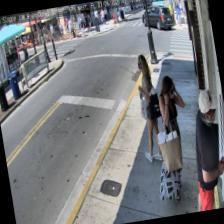person: (140, 74, 198, 202), (179, 87, 224, 211), (129, 53, 164, 163)
